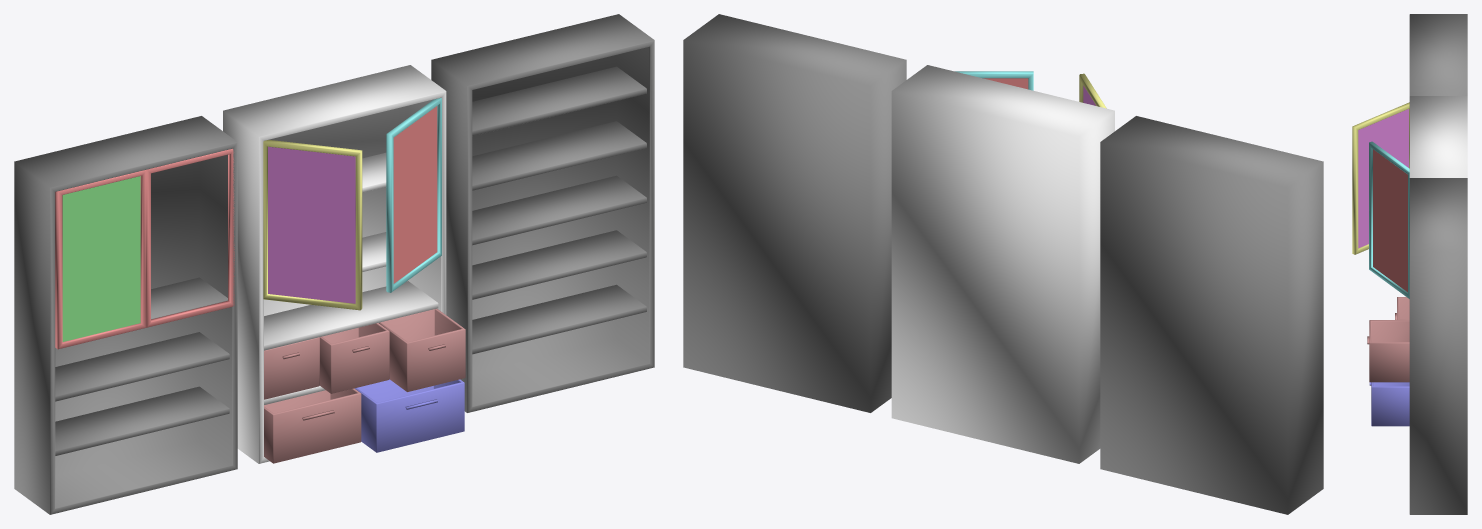
File: shelf4_Box07.fbx
3 renders of one model, left to right at view 1: azimuth 30°, elevation 25°; view 2: azimuth 150°, elevation 25°; view 3: azimuth 270°, elevation 25°, orthographic. The views are drawn at different scales.
Parts seen in each view (by area): view 1: shelf4_Box07; view 2: shelf4_Box07; view 3: shelf4_Box07.
Part boxes in pixels (<box>): shelf4_Box07: <box>14,14,654,514</box>; shelf4_Box07: <box>683,14,1323,514</box>; shelf4_Box07: <box>1352,14,1467,514</box>.
Bounding box in the file's own units: 580 × 300 × 119.
